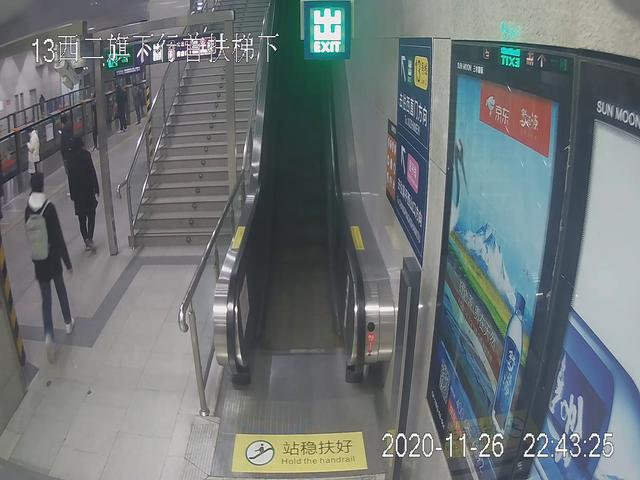person: (24, 169, 81, 342), (64, 138, 102, 254), (22, 126, 41, 198), (58, 111, 75, 173), (114, 81, 130, 135)
